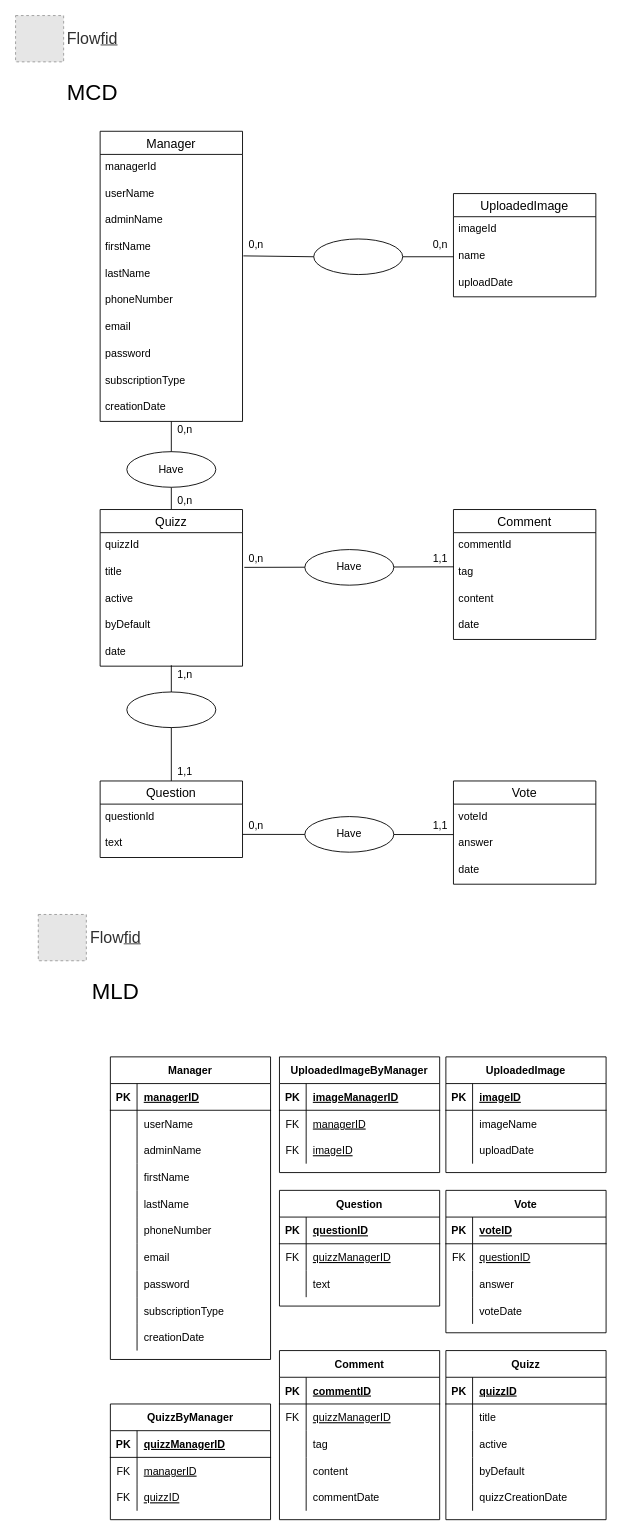
Image size: 622x1535. Some labels were removed from this diagram. Grey dashed boxes stand in for pictures. The centre of each missing label's shape, as x and y in pixels:
"Contain" belongs at point (171, 709).
"Upload" belongs at point (358, 256).
